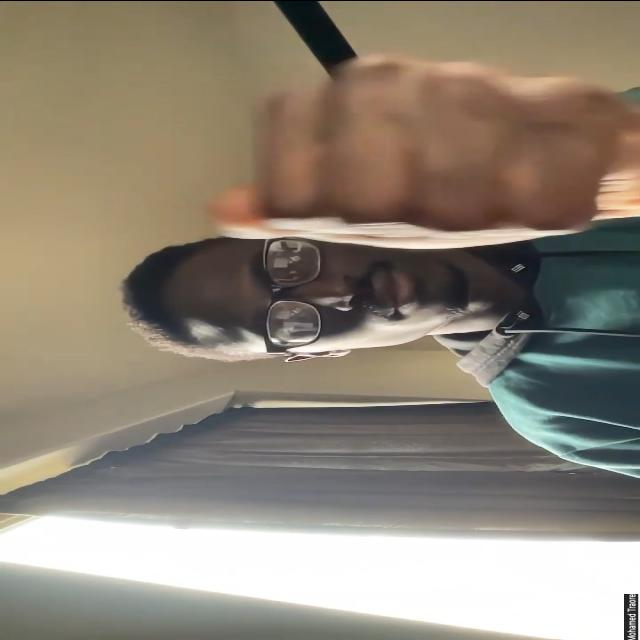Rock: (209, 52, 640, 250)
